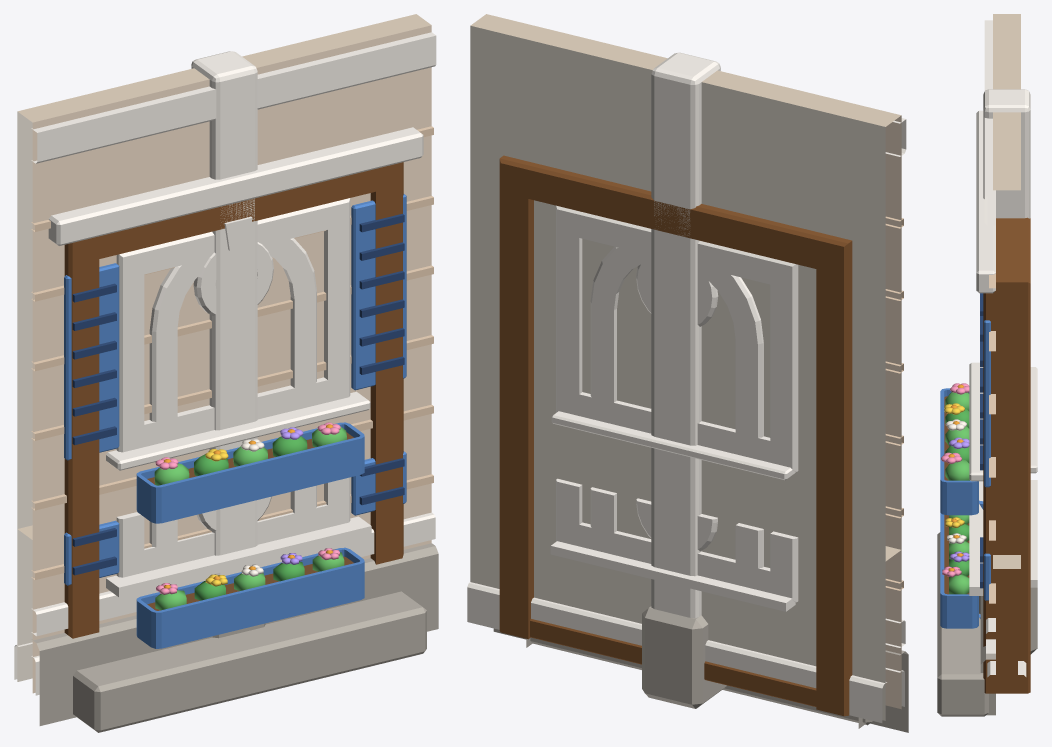
Rendered from casa-paredes.glb.
3 renders of one model, left to right at view 1: azimuth 30°, elevation 25°; view 2: azimuth 150°, elevation 25°; view 3: azimuth 270°, elevation 25°, orthographic. The views are drawn at different scales.
Visible parts, largest first — view 1: parede-janela-grande-lambri, parede-porta-lambri, parede-janela-arco-lambri, parede-janela-grande-lambri-baixa, quina-lambri, parede-janela-redonda-lambri, parede-janela-arco-lambri-baixa, parede-porta-lambri-baixa, quina-lambri-baixa, parede-janela-redonda-lambri-baixa; view 2: parede-janela-grande-lambri, parede-janela-arco-lambri, parede-porta-lambri, quina-lambri, parede-janela-grande-lambri-baixa, parede-janela-arco-lambri-baixa, parede-porta-lambri-baixa, parede-janela-redonda-lambri, parede-lambri, quina-lambri-baixa, parede-janela-redonda-lambri-baixa; view 3: parede-porta-lambri, parede-janela-grande-lambri, parede-janela-grande-lambri-baixa, parede-janela-arco-lambri, quina-lambri, parede-porta-lambri-baixa, parede-janela-redonda-lambri, parede-janela-arco-lambri-baixa.
Boxes of the visible parts, x1,y1,x2,y2 form: parede-janela-grande-lambri: (14,14,438,725); parede-porta-lambri: (14,14,438,732); parede-janela-arco-lambri: (84,30,372,663); parede-janela-grande-lambri-baixa: (17,443,433,692); quina-lambri: (191,51,265,638); parede-janela-redonda-lambri: (151,47,305,645); parede-janela-arco-lambri-baixa: (99,484,351,623); parede-porta-lambri-baixa: (18,452,403,636); quina-lambri-baixa: (212,500,257,575); parede-janela-redonda-lambri-baixa: (177,492,290,540); parede-janela-grande-lambri: (467,14,908,732); parede-janela-arco-lambri: (536,31,831,685); parede-porta-lambri: (467,14,908,731); quina-lambri: (642,52,726,708); parede-janela-grande-lambri-baixa: (470,462,903,720); parede-janela-arco-lambri-baixa: (539,478,816,662); parede-porta-lambri-baixa: (499,469,898,715); parede-janela-redonda-lambri: (605,48,761,654); parede-lambri: (611,246,747,429); quina-lambri-baixa: (651,509,696,617); parede-janela-redonda-lambri-baixa: (608,498,747,646); parede-porta-lambri: (937,14,1030,716); parede-janela-grande-lambri: (940,14,1037,676); parede-janela-grande-lambri-baixa: (940,480,1037,628); parede-janela-arco-lambri: (969,43,1037,449); quina-lambri: (979,89,1037,654); parede-porta-lambri-baixa: (983,552,1030,693); parede-janela-redonda-lambri: (984,72,1020,137); parede-janela-arco-lambri-baixa: (1030,494,1037,565).
Bounding box in the file's own units: 3 × 4.34 × 0.72.
